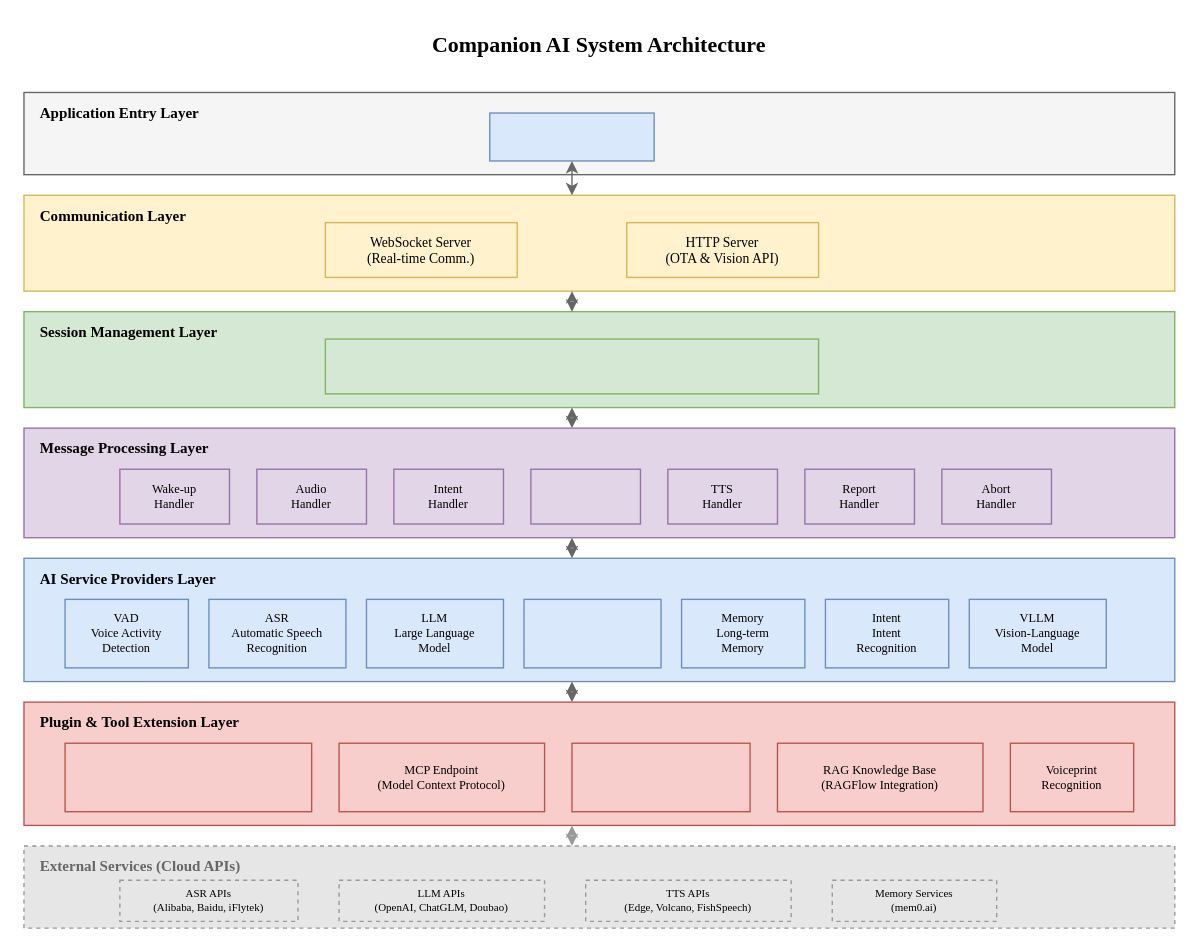
Some shapes in this 1199 by 952 pixel diagram are drawn without their labels. The shapes that lost their labels are listed below. From the top down, each one's box as (x1, y1, x2, y2) in pixels, then its label:
(488, 112, 654, 161): app.py (Main Entry)
(324, 338, 819, 394): Connection Handler (Session State, Message Routing, Component Coordination)
(530, 468, 640, 524): Text Handler
(523, 598, 661, 668): TTS Text-to-Speech Synthesis
(64, 742, 312, 812): Function Plugins (Weather, News, Music, Role Switch)
(571, 742, 750, 812): IoT Control (Home Assistant)
